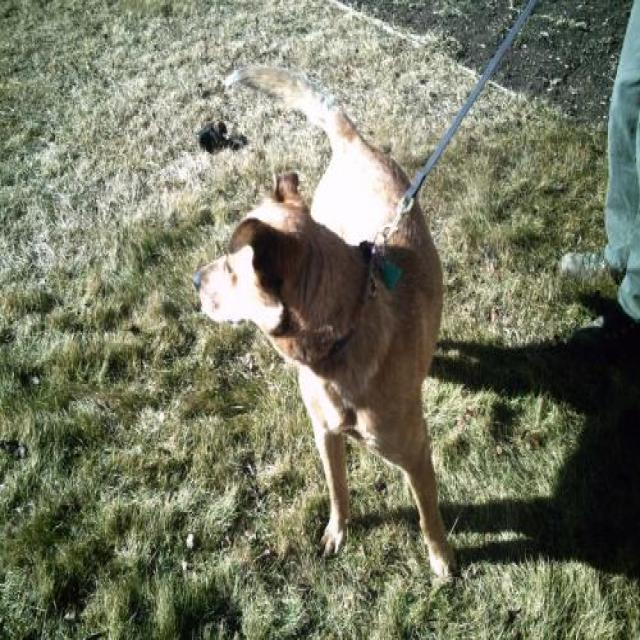Dogs: (190, 62, 460, 586)
